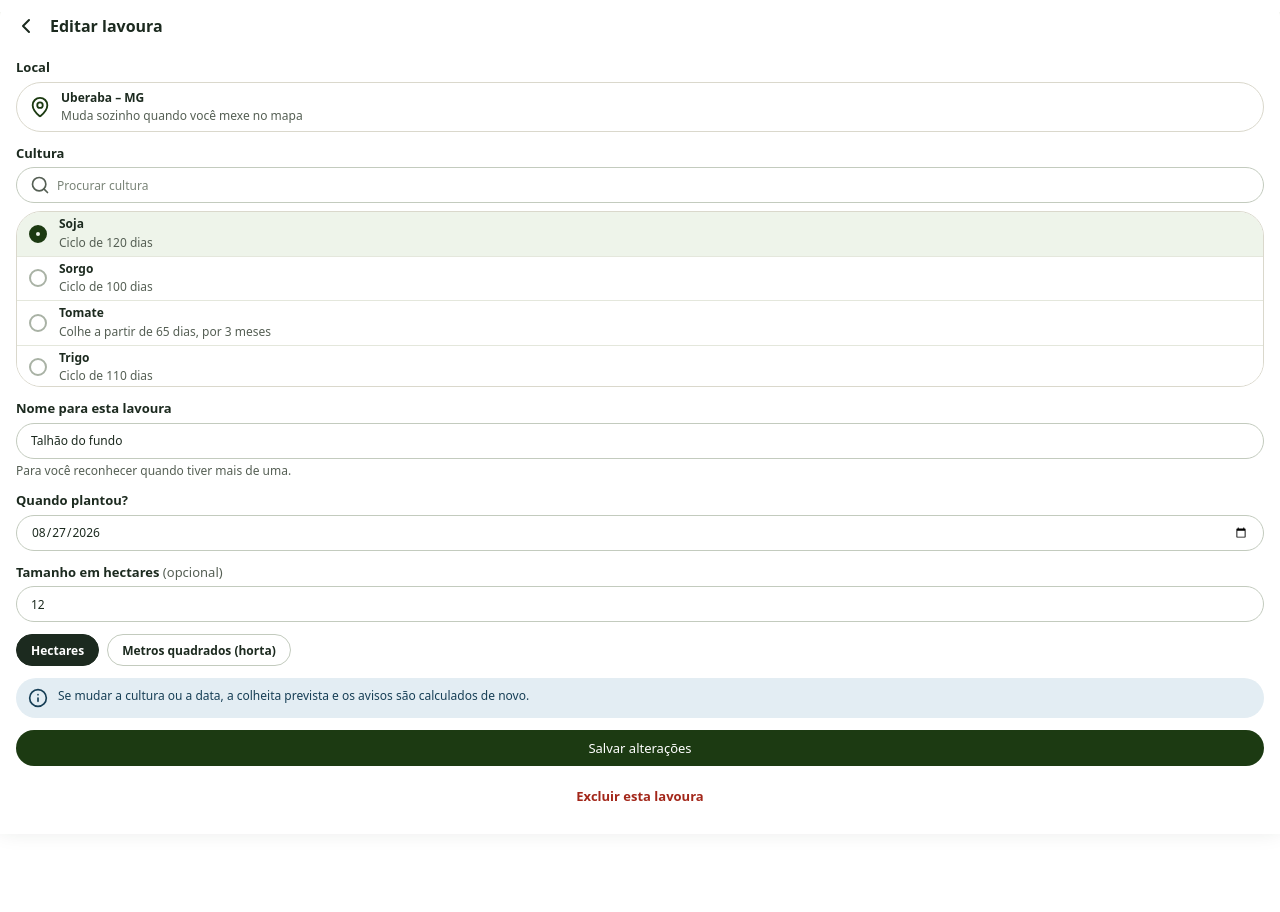
Test: Editar lavoura › o nome de outra lavoura avisa embaixo do nome
The width and height of the screenshot is (1280, 912).
(page scrolled)
expect the heading "Editar lavoura" is shown: met, box [50,15,163,37]
Replace the text in the field labelled "Nome para esta lavoura" with "Roça da baixada" at [640, 440], box [16,422,1264,458]
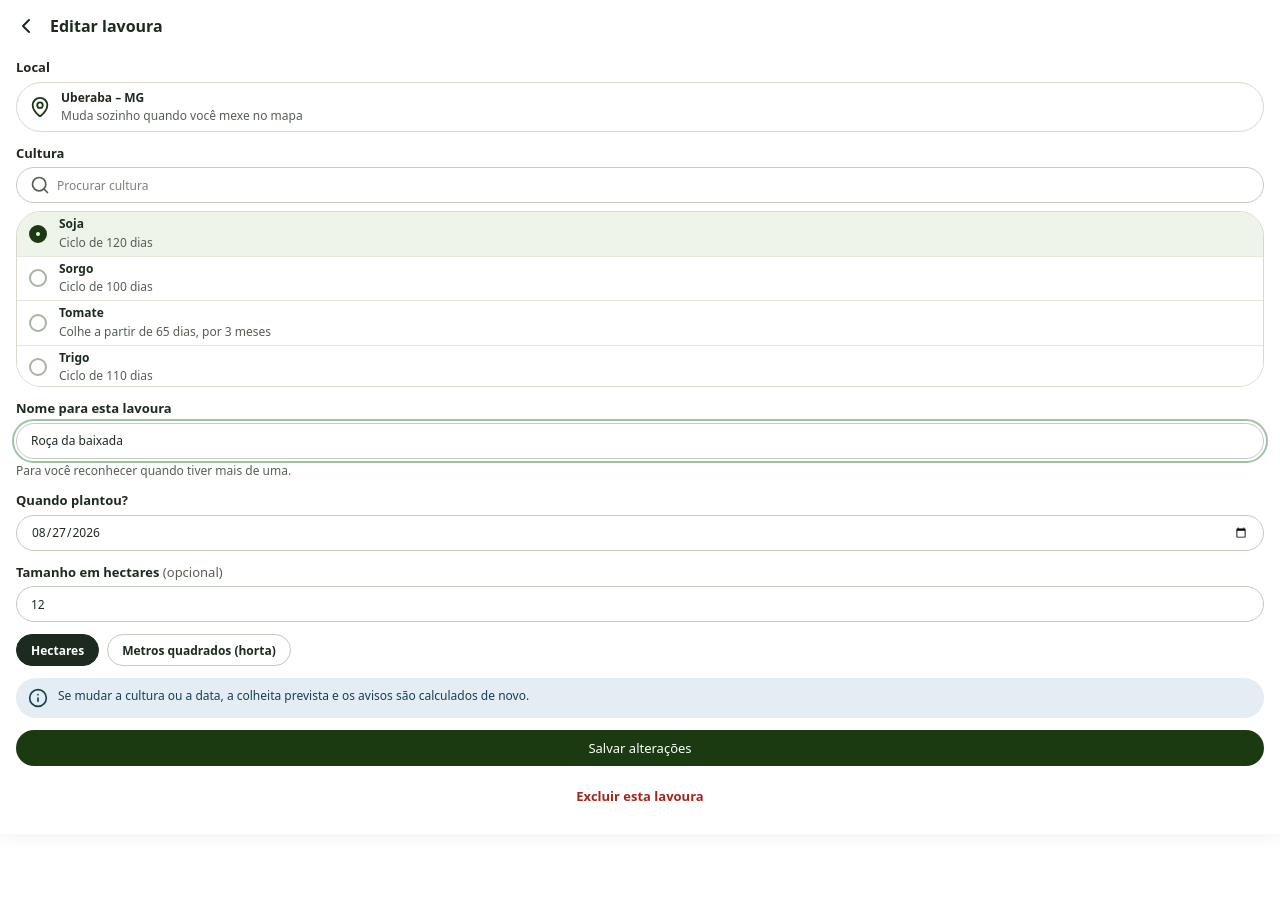
Click the button "Salvar alterações".
click(640, 748)  # box [16,730,1264,766]
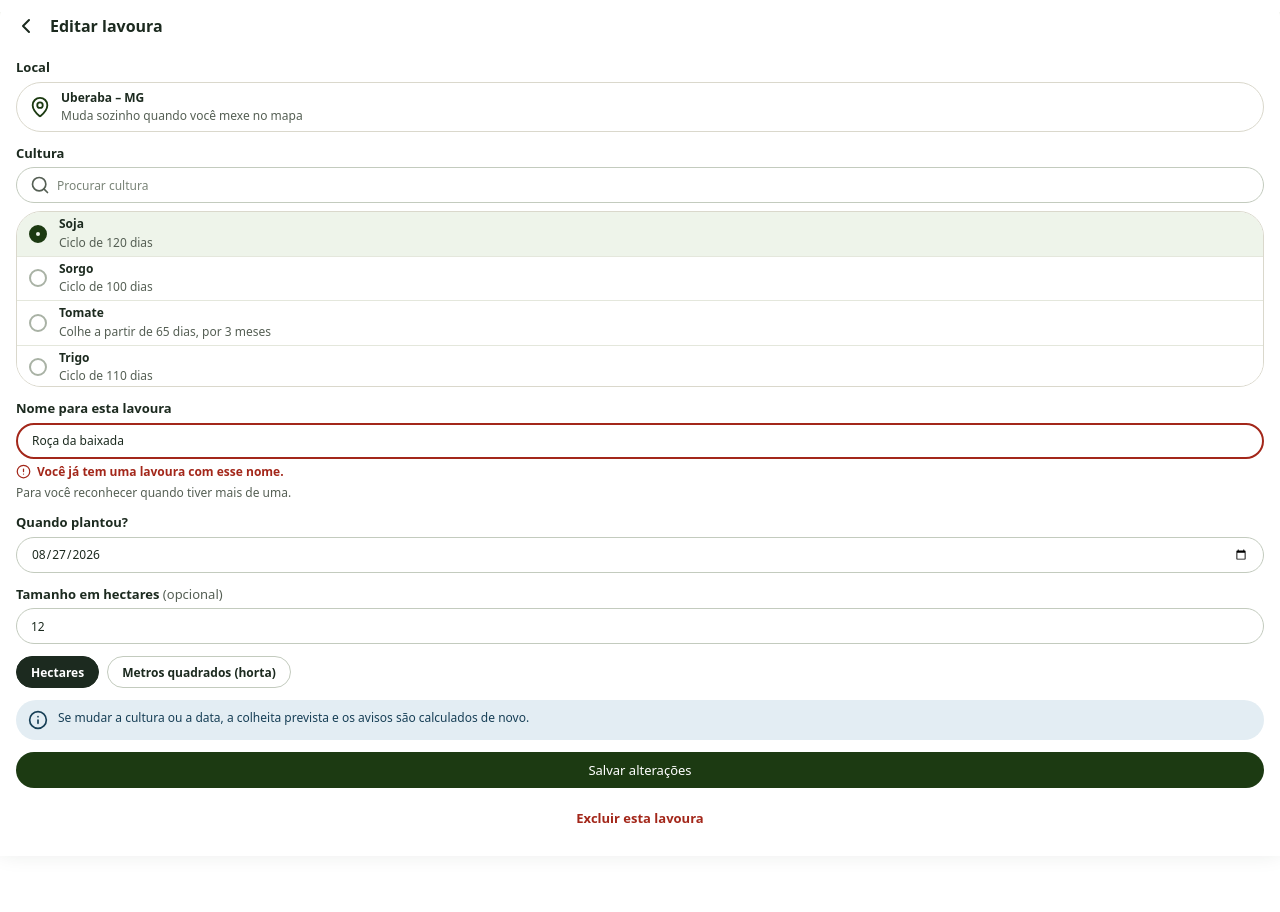
expect the text "Você já tem uma lavoura com esse nome." is shown: met, box [16,462,284,480]
